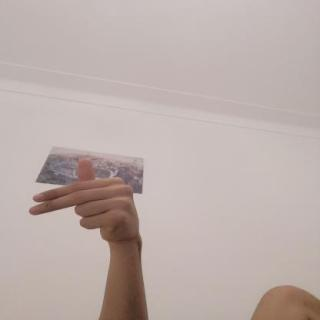GHAYN: (18, 151, 146, 248)
